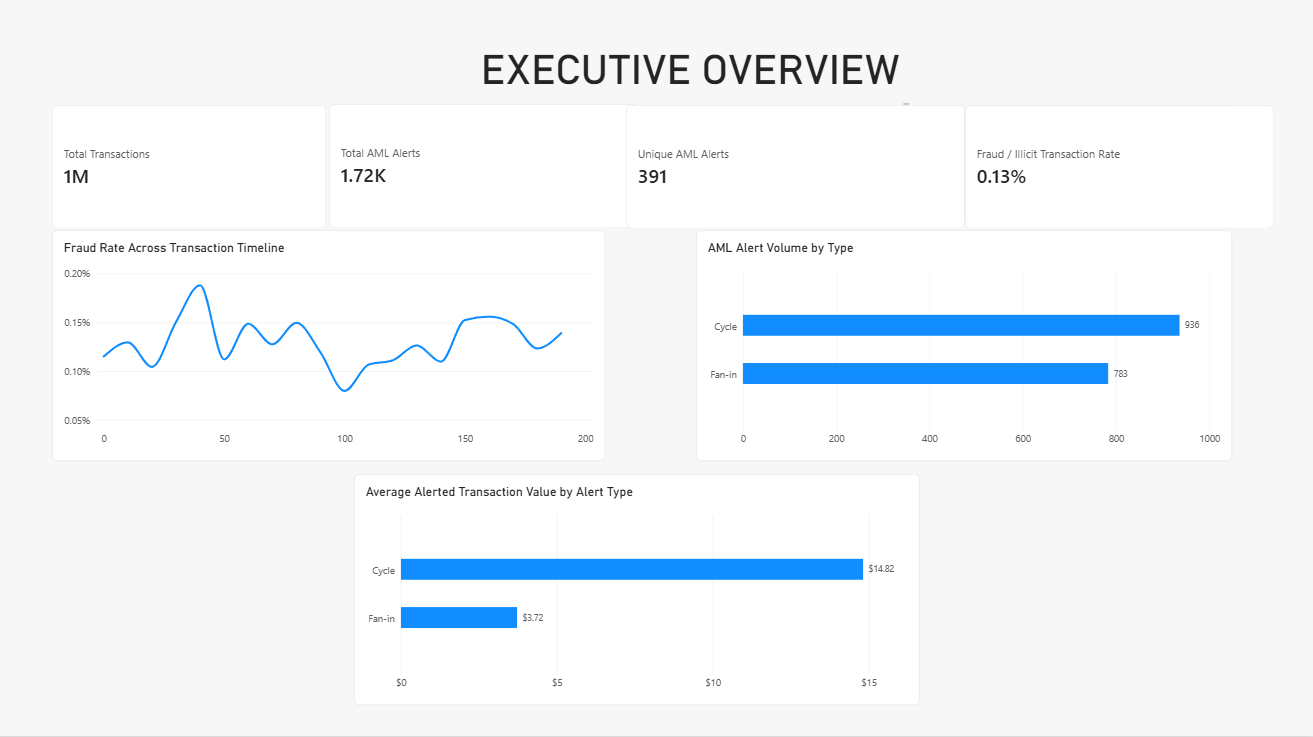

The page's visual inventory and layout, read from the dashboard file:
{"tool":"powerbi","page":{"name":"Executive Overview","canvas":[1920,1080],"ordinal":0},"visuals":[{"type":"cardVisual","fields":{"Data":["public transactions.Total Transactions"]},"box":[91.1,167.3,397,179.7],"z":0},{"type":"cardVisual","fields":{"Data":["public alerts.Total AML Alerts"]},"box":[492,165.7,450,180],"z":1000},{"type":"cardVisual","fields":{"Data":["public alerts.Unique AML Alerts"]},"box":[922.7,167.3,491.2,179.7],"z":2000},{"type":"cardVisual","fields":{"Data":["public transactions.Fraud / Illicit Transaction Rate"]},"box":[1414.7,167.3,447.8,179.7],"z":3000},{"type":"lineChart","title":"Fraud Rate Across Transaction Timeline","fields":{"Y":["public transactions.Fraud / Illicit Transaction Rate"],"Category":["public transactions.Transaction Period"]},"box":[91.1,347.9,801.8,334.6],"z":4000},{"type":"clusteredBarChart","title":"AML Alert Volume by Type","fields":{"Y":["public alerts.Total AML Alerts"],"Category":["public alerts.Alert Type Display"]},"box":[1023.8,347.9,776.9,334.6],"z":5000},{"type":"clusteredBarChart","title":"Average Alerted Transaction Value by Alert Type","fields":{"Y":["public alerts.Average Alerted Transaction Value"],"Category":["public alerts.Alert Type Display"]},"box":[528.9,701.3,820.2,334.7],"z":6000},{"type":"textbox","title":"EXECUTIVE OVERVIEW","box":[713.3,80,620,86.7],"z":7000}]}

Visuals, with their boxes in screenshot pixels (x1, y1, x2, y2), scaled from the page's 1920x1080 canvas onto the 1313x737 screenshot:
cardVisual - public transactions.Total Transactions: <region>62, 114, 334, 237</region>
cardVisual - public alerts.Total AML Alerts: <region>336, 113, 644, 236</region>
cardVisual - public alerts.Unique AML Alerts: <region>631, 114, 967, 237</region>
cardVisual - public transactions.Fraud / Illicit Transaction Rate: <region>967, 114, 1274, 237</region>
"Fraud Rate Across Transaction Timeline" lineChart: <region>62, 237, 611, 466</region>
"AML Alert Volume by Type" clusteredBarChart: <region>700, 237, 1231, 466</region>
"Average Alerted Transaction Value by Alert Type" clusteredBarChart: <region>362, 479, 923, 707</region>
"EXECUTIVE OVERVIEW" textbox: <region>488, 55, 912, 114</region>
